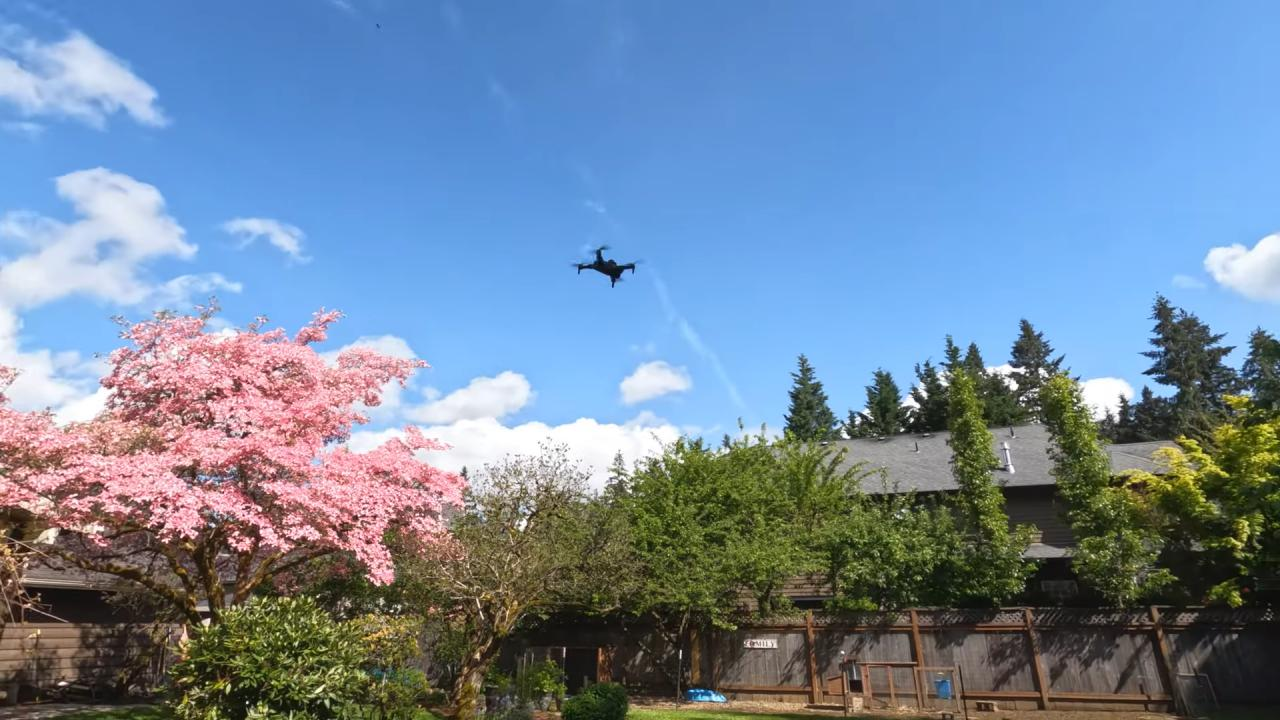Drone: (564, 239, 648, 293)
